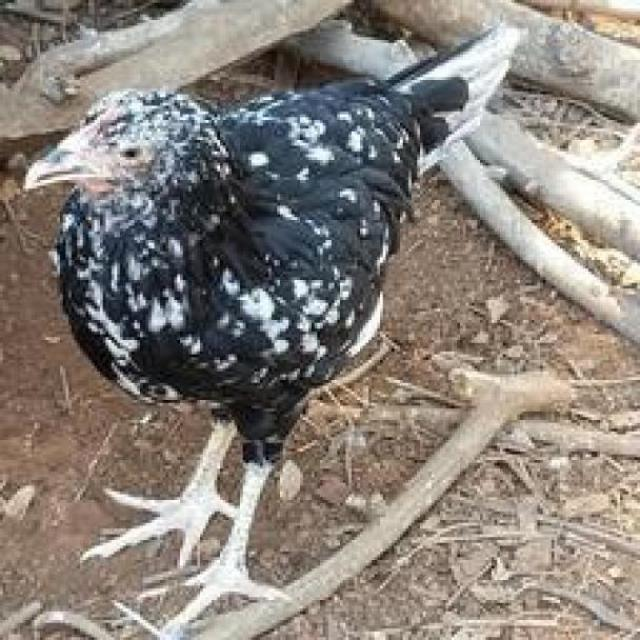Chicken: (7, 29, 538, 600)
